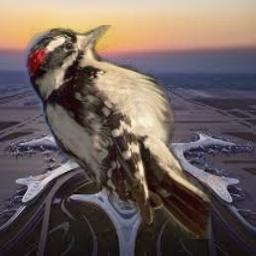Woodpecker: (24, 25, 211, 239)
